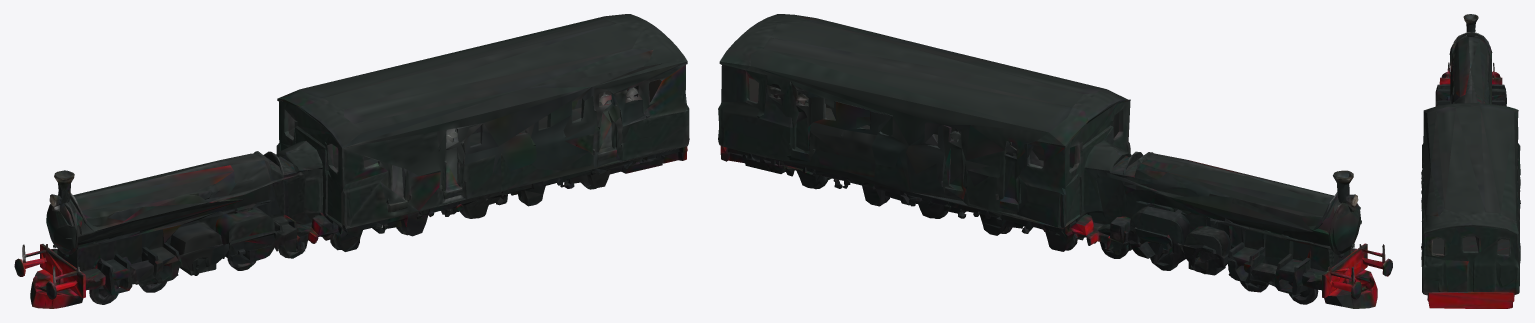
File: lm_train_museum.glb
3 renders of one model, left to right at view 1: azimuth 30°, elevation 25°; view 2: azimuth 150°, elevation 25°; view 3: azimuth 270°, elevation 25°, orthographic. The views are drawn at different scales.
Size of the model in its own units: 1.9 by 0.3853 by 0.3601.
Materials: 1 (1 with a texture image).
